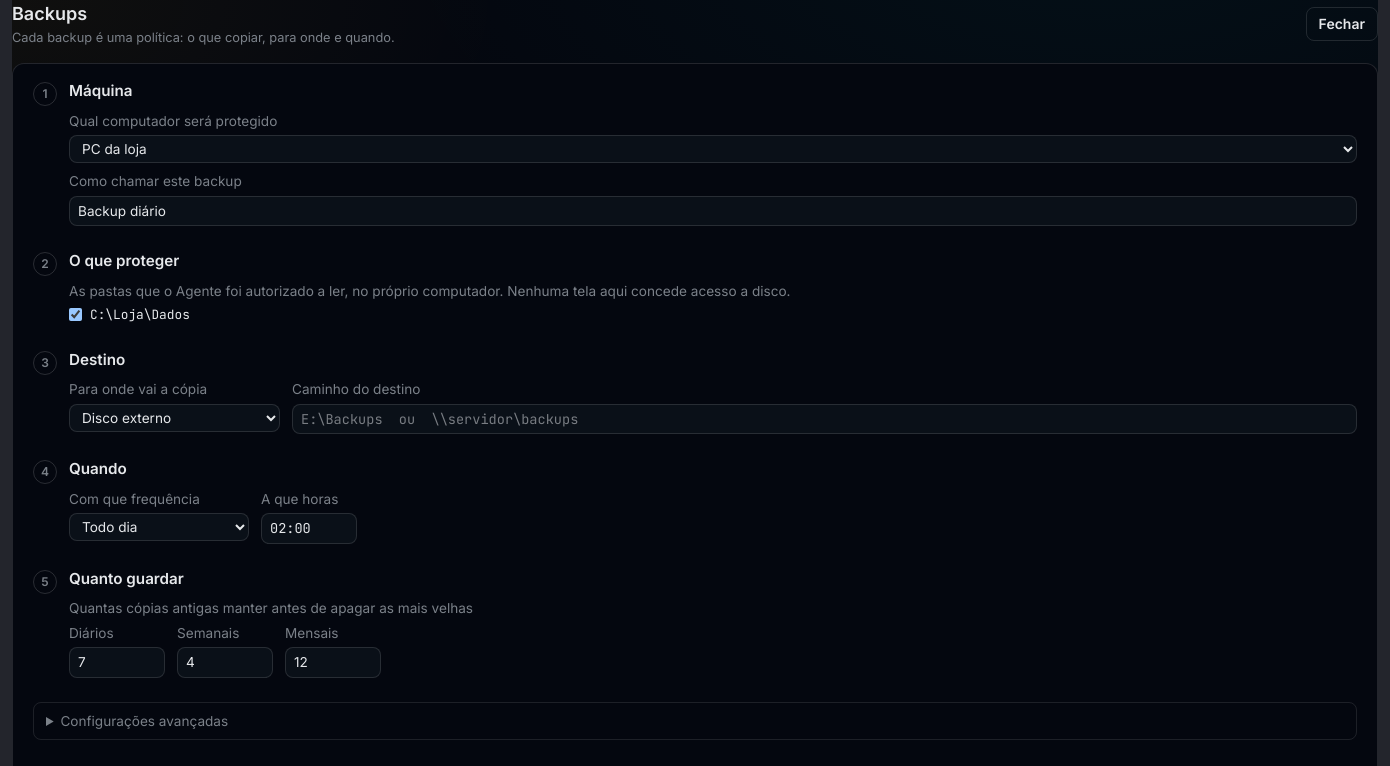
Test case: assistente de configuração › com a nuvem escolhida, ativar continua disponível
Expected: the text "C:\\Loja\\Dados" is shown, [90,305,190,324]
Select "Nuvem compatível com S3" in the dropdown named "Tipo de destino" at x=174, y=418, box [69,404,280,432]
(page scrolled)
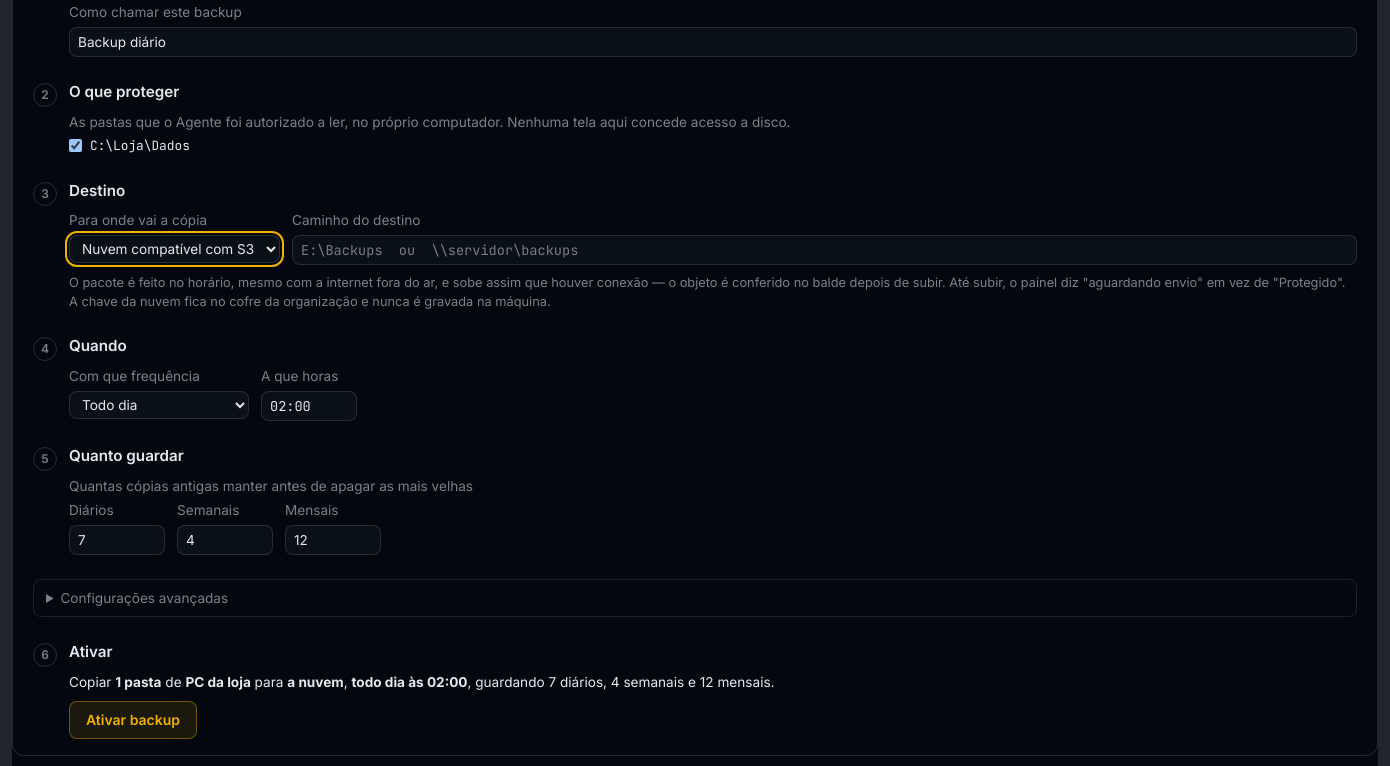
Expected: the button "Ativar backup" is enabled, [69,701,197,739]
Expected: the message shows "a nuvem", [287,674,344,690]
